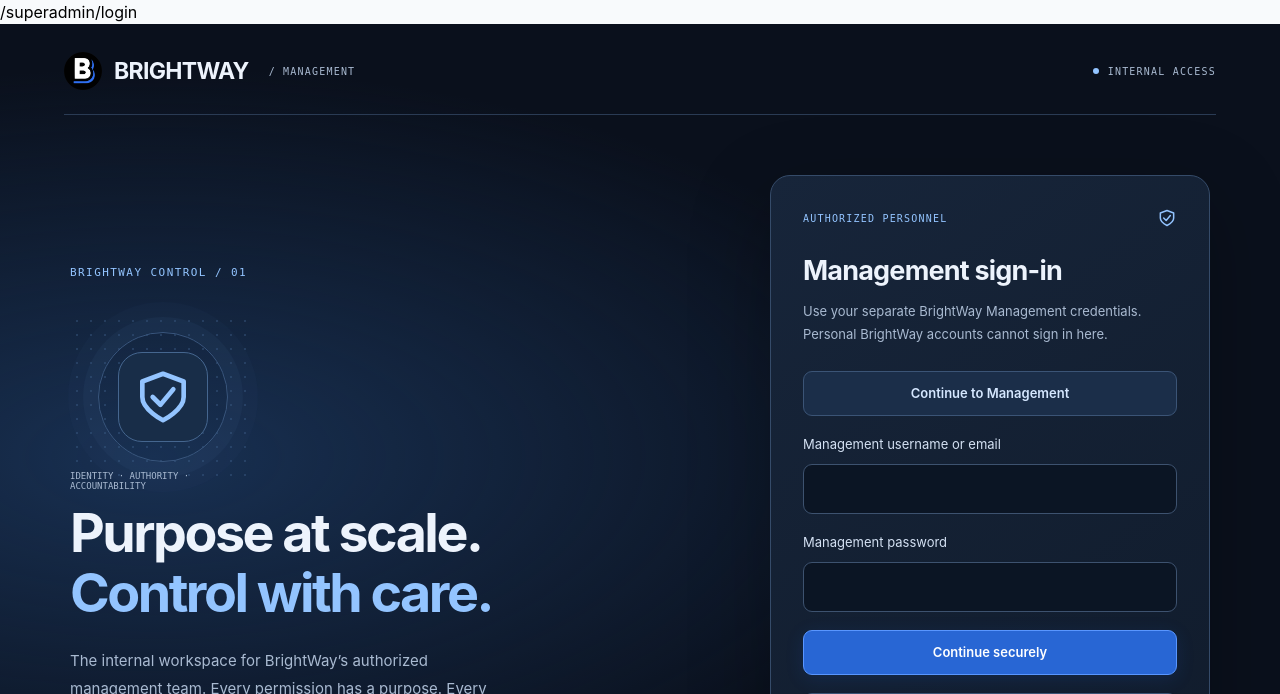
Test: signed-in staff can continue from management login and sign out back to its login
Click the button "Continue to Management" at (990, 393), box [803,370,1177,416]
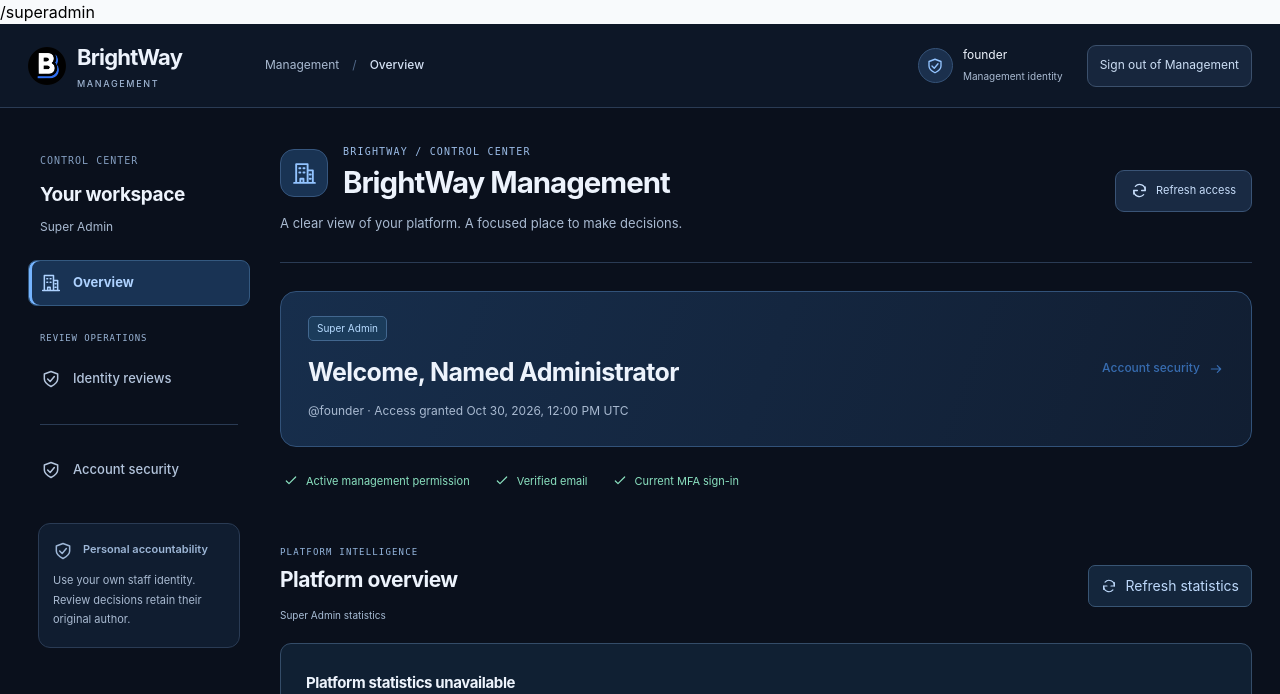
Expected: the heading "Welcome, Named Administrator" is shown, [308,353,679,392]
Click the button "Sign out of Management" at (1169, 66), box [1087,44,1252,86]
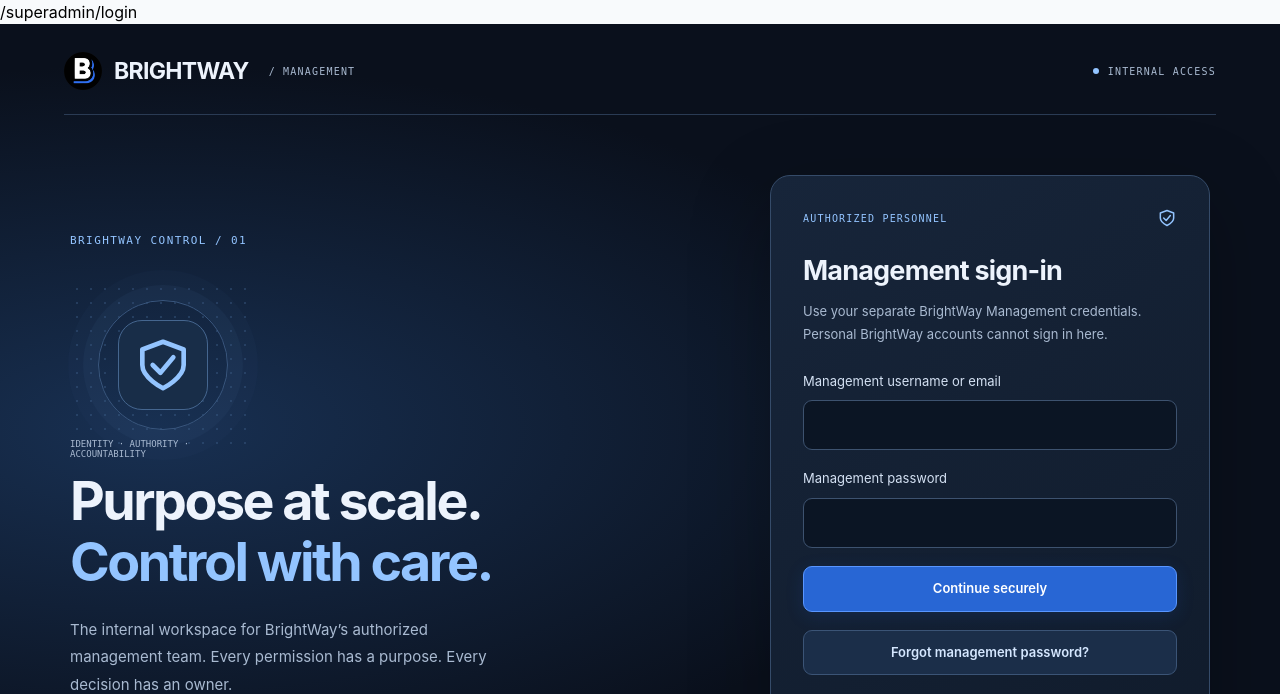
Expected: the heading "Management sign-in" is shown, [803,254,1062,287]
Expected: the text named "Current path" reads "/superadmin/login", [0,2,137,22]
